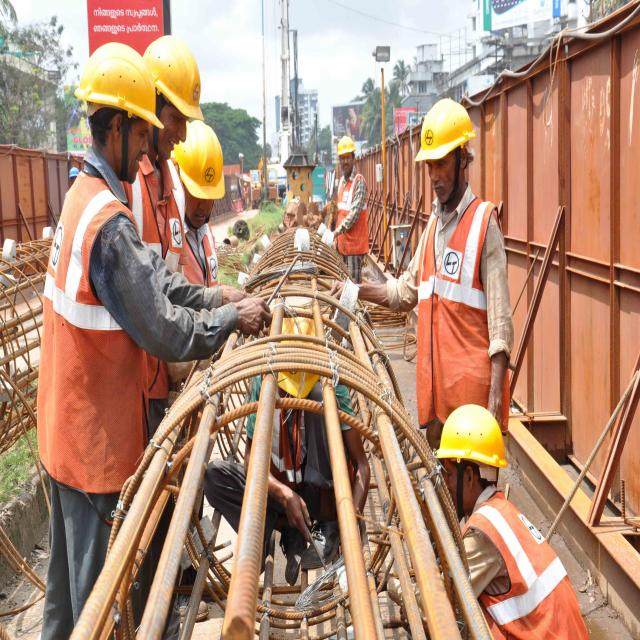Reflective-Jacket: (34, 172, 146, 497), (412, 196, 506, 410), (462, 496, 584, 640), (335, 170, 370, 253)
Safety-Helmet: (73, 39, 163, 130), (142, 32, 207, 121), (434, 399, 510, 470), (413, 93, 477, 163), (174, 118, 227, 199), (336, 134, 356, 156)
